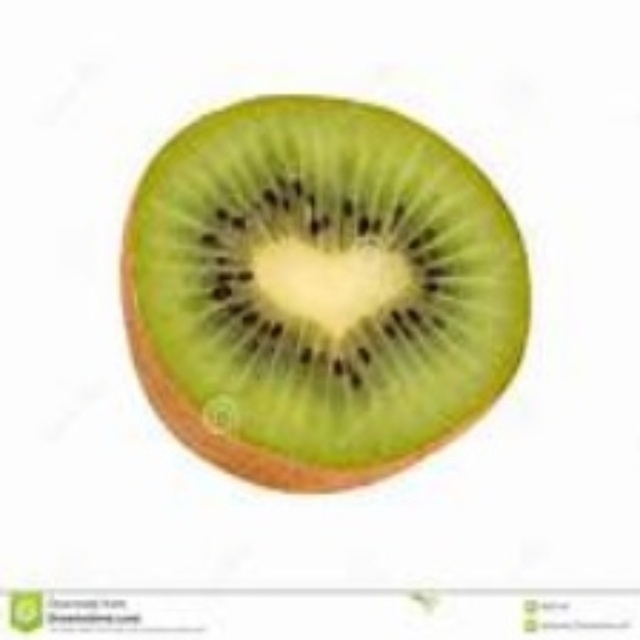kiwi: (116, 76, 568, 501)
